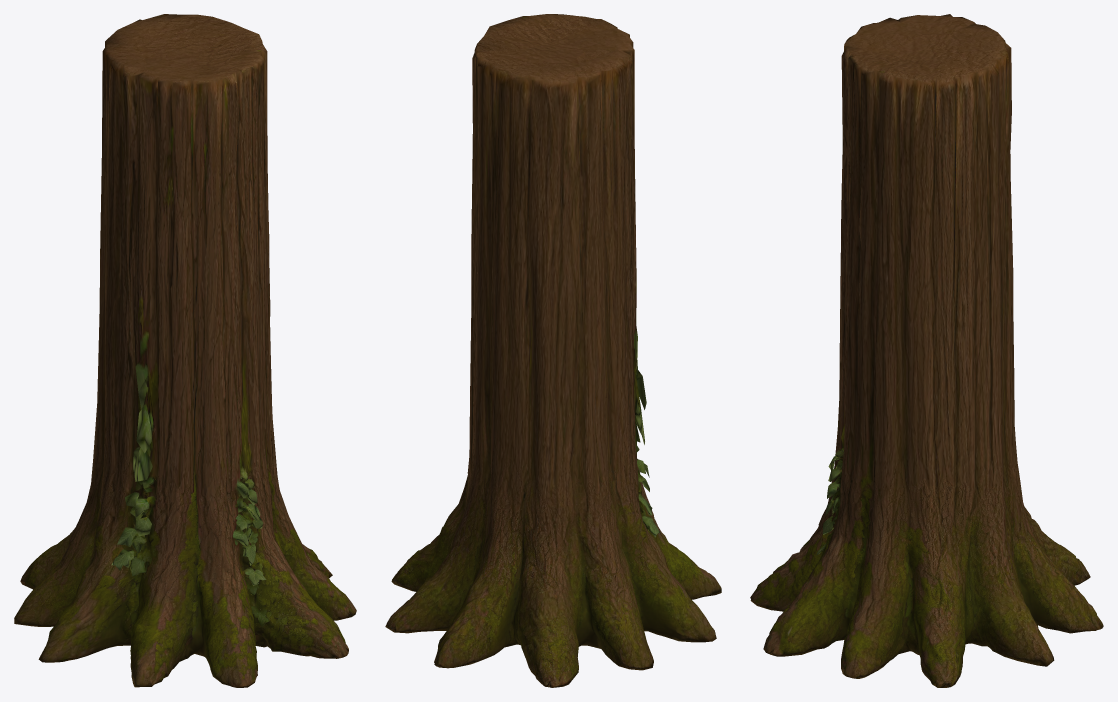
The picture shows the model from 3 angles, left to right: view 1: azimuth 30°, elevation 25°; view 2: azimuth 150°, elevation 25°; view 3: azimuth 270°, elevation 25°; orthographic projection.
Visible parts, largest first — view 1: Mega oak trunk; view 2: Mega oak trunk; view 3: Mega oak trunk.
Boxes of the visible parts, box(x1,y1,x2,y2) form: Mega oak trunk: box(14, 14, 356, 687); Mega oak trunk: box(385, 14, 721, 687); Mega oak trunk: box(750, 14, 1103, 687).
Size of the model in its own units: 40.11 by 71.1 by 40.15.
1 material, 1 textured.
